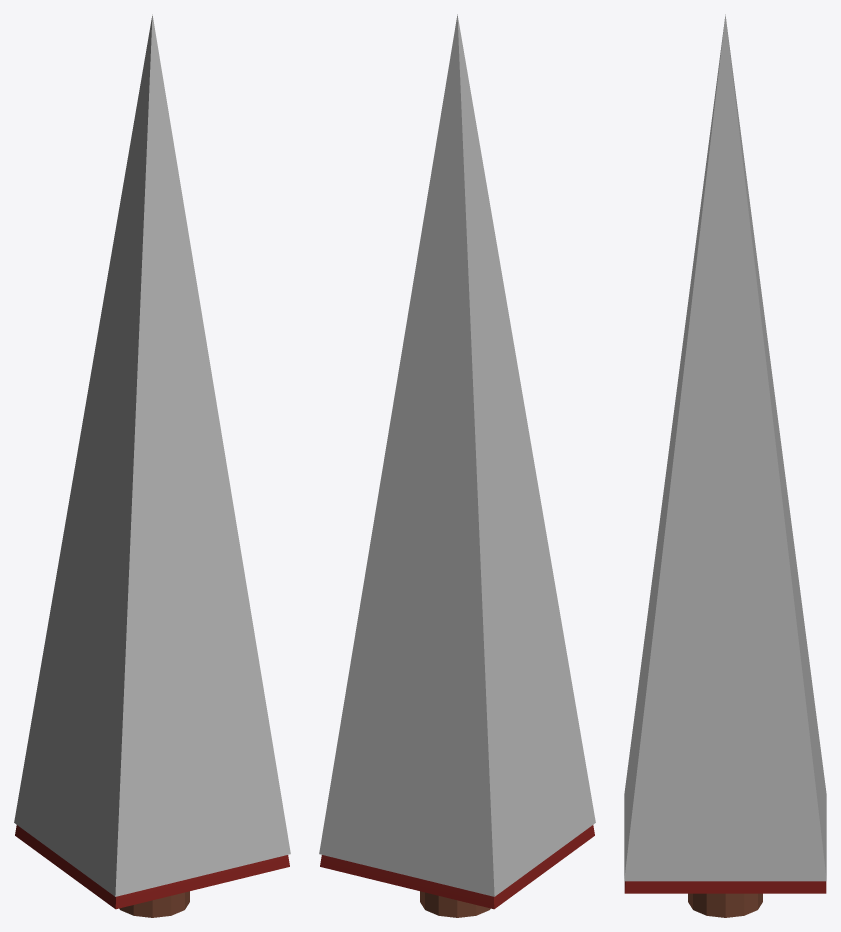
The model's file is Tree_19_winter_gradient_red_vc.fbx.
3 views of the same model, side by side, from view 1: azimuth 30°, elevation 25°; view 2: azimuth 150°, elevation 25°; view 3: azimuth 270°, elevation 25° (orthographic).
Parts seen in each view (by area): view 1: Tree_19_winter_gradient_red_vc; view 2: Tree_19_winter_gradient_red_vc; view 3: Tree_19_winter_gradient_red_vc.
Boxes of the visible parts, x1=… form: Tree_19_winter_gradient_red_vc: x1=14, y1=14, x2=290, y2=917; Tree_19_winter_gradient_red_vc: x1=319, y1=14, x2=595, y2=917; Tree_19_winter_gradient_red_vc: x1=624, y1=14, x2=826, y2=917.
Bounding box in the file's own units: 60.03 × 290 × 60.03.
